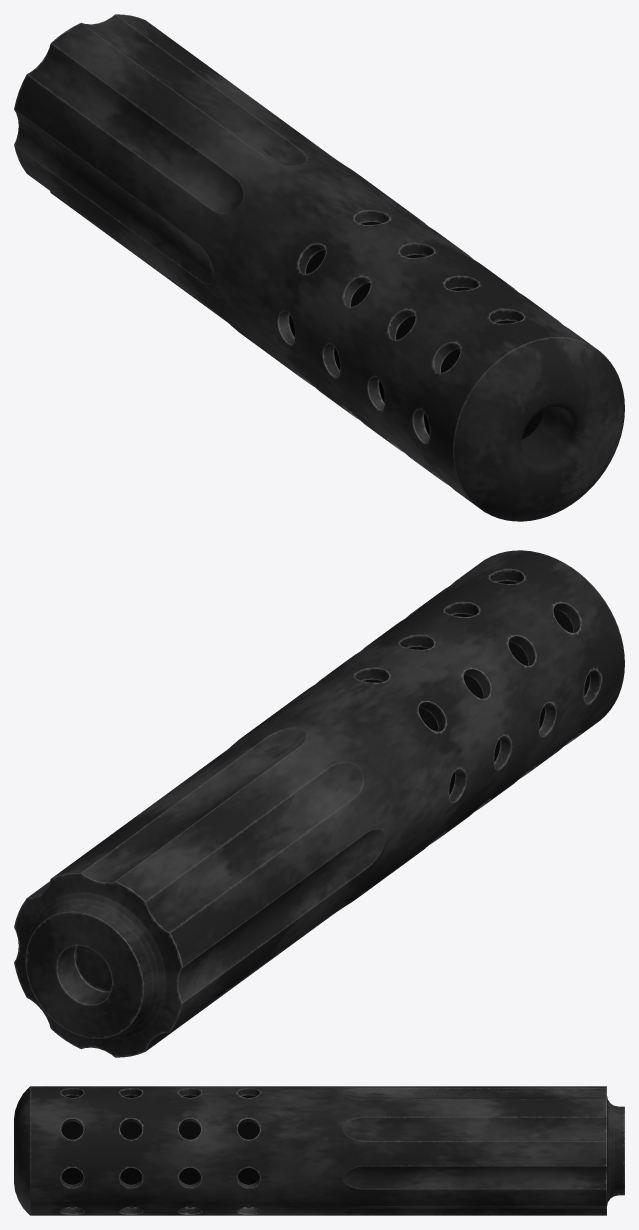
Rendered from suppressor.glb.
The picture shows the model from 3 angles, top to bottom: view 1: azimuth 30°, elevation 25°; view 2: azimuth 150°, elevation 25°; view 3: azimuth 270°, elevation 25°; orthographic projection. The views are drawn at different scales.
Parts seen in each view (by area): view 1: Cylinder; view 2: Cylinder; view 3: Cylinder.
Boxes of the visible parts, bbox=[...] form: Cylinder: bbox=[14, 14, 624, 521]; Cylinder: bbox=[14, 550, 624, 1057]; Cylinder: bbox=[14, 1086, 624, 1215].
Size of the model in its own units: 79.99 by 79.99 by 377.
Materials: 3 (2 with a texture image).
